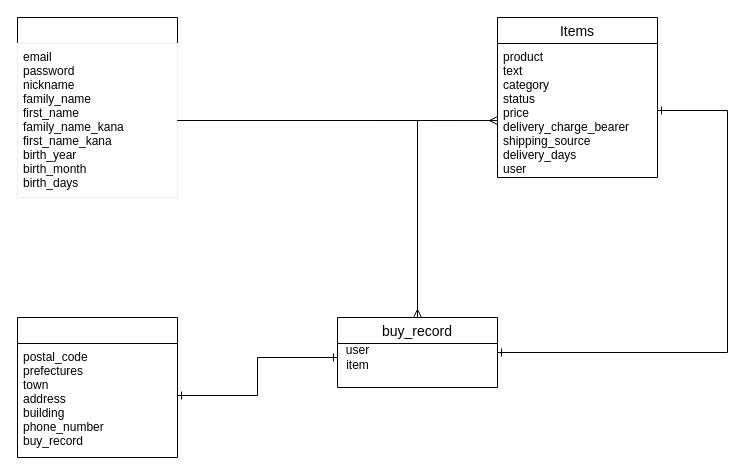
The diagram is 754 pixels wide and 475 high, and some of its shapes have lost their labels. Each missing label, with the box of its shape:
Sipping_address: (16, 316, 178, 458)
Users: (16, 16, 178, 198)
